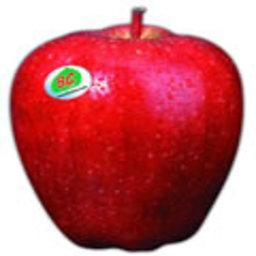apple: (9, 16, 240, 249)
